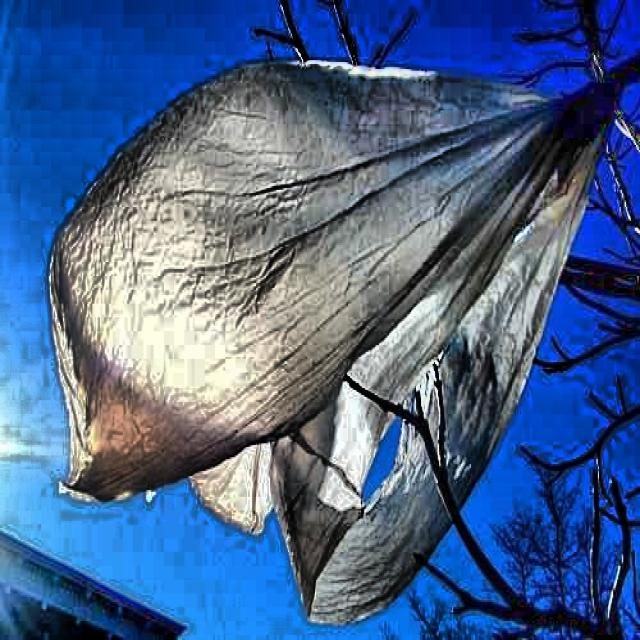Plastic: (41, 12, 640, 640)
